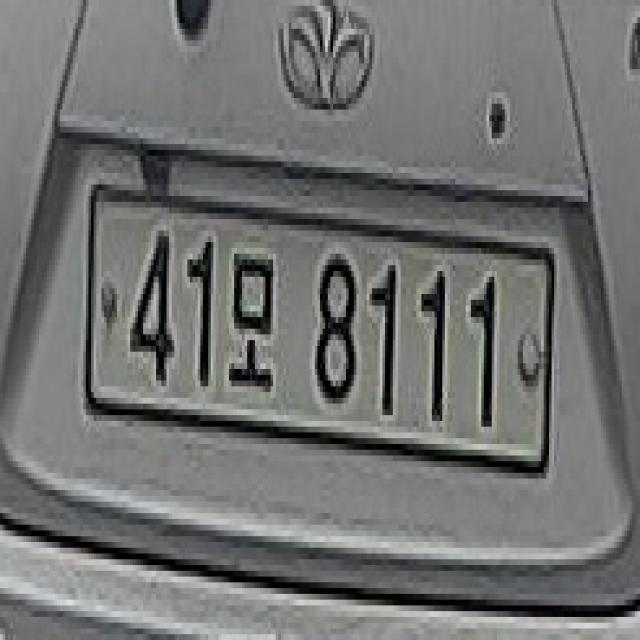1: (416, 266, 450, 432), (468, 266, 502, 432), (188, 225, 218, 392), (370, 259, 400, 421)
4: (128, 219, 180, 386)
8: (313, 248, 357, 415)
license_plate: (83, 179, 554, 484)
mo: (226, 242, 278, 398)
